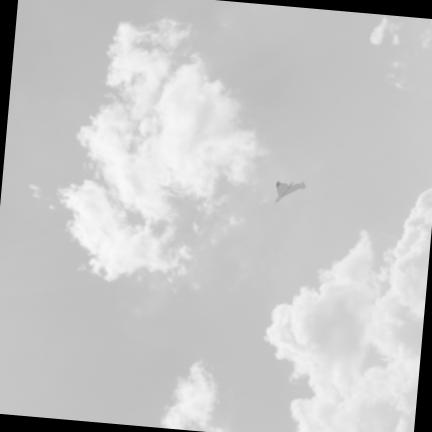Shahed: (276, 180, 305, 201)
